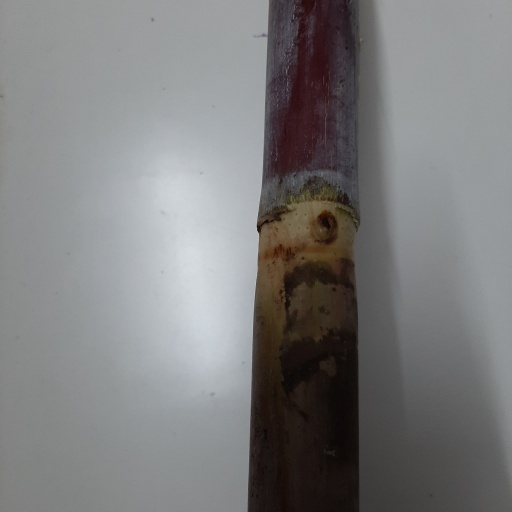Bud: (313, 209, 339, 242)
